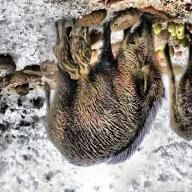boar: (39, 16, 165, 179), (70, 18, 95, 77), (49, 27, 74, 79)
